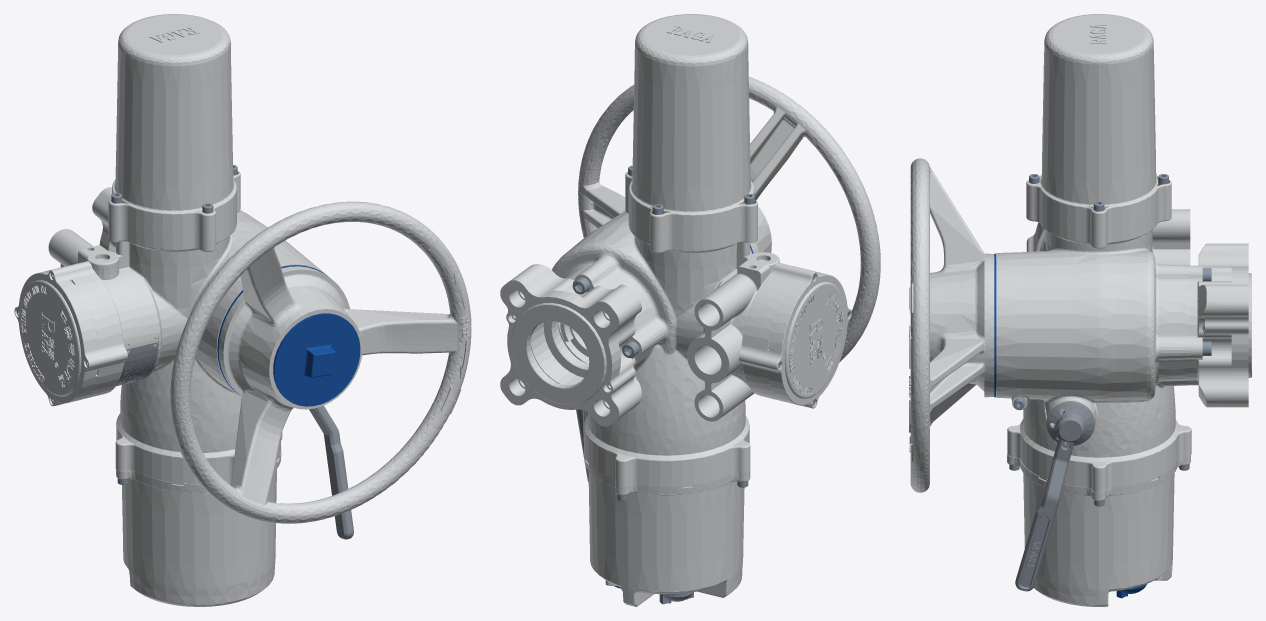
3 views of the same model, side by side, from view 1: azimuth 30°, elevation 25°; view 2: azimuth 150°, elevation 25°; view 3: azimuth 270°, elevation 25° (orthographic). The views are drawn at different scales.
Parts seen in each view (by area): view 1: part_04, part_00, part_01; view 2: part_04, part_02; view 3: part_04, part_01, part_02, part_00.
Boxes of the visible parts, x1=… form: part_04: x1=14, y1=14, x2=471, y2=606; part_00: x1=217, y1=265, x2=360, y2=406; part_01: x1=116, y1=342, x2=353, y2=539; part_04: x1=500, y1=14, x2=880, y2=606; part_02: x1=572, y1=165, x2=849, y2=604; part_04: x1=909, y1=14, x2=1251, y2=606; part_01: x1=1015, y1=401, x2=1094, y2=591; part_02: x1=1009, y1=174, x2=1211, y2=506; part_00: x1=994, y1=253, x2=1146, y2=598.
Bounding box in the file's own units: 456 × 730 × 424.
